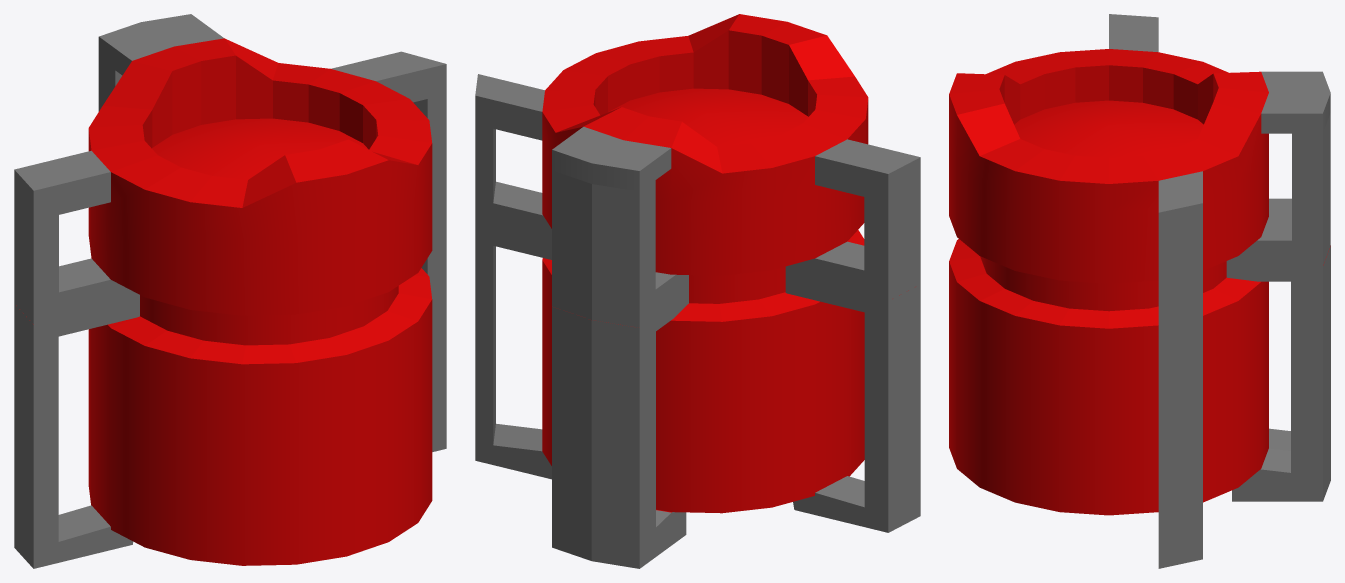
The model's file is Sci-Fi_Barrell.fbx.
3 renders of one model, left to right at view 1: azimuth 30°, elevation 25°; view 2: azimuth 150°, elevation 25°; view 3: azimuth 270°, elevation 25°, orthographic. The views are drawn at different scales.
Visible parts, largest first — view 1: pCylinder1; view 2: pCylinder1; view 3: pCylinder1.
Part boxes in pixels (bbox=[...]): pCylinder1: bbox=[14, 14, 446, 568]; pCylinder1: bbox=[475, 14, 920, 568]; pCylinder1: bbox=[949, 14, 1330, 568].
Size of the model in its own units: 266 by 245 by 216.
